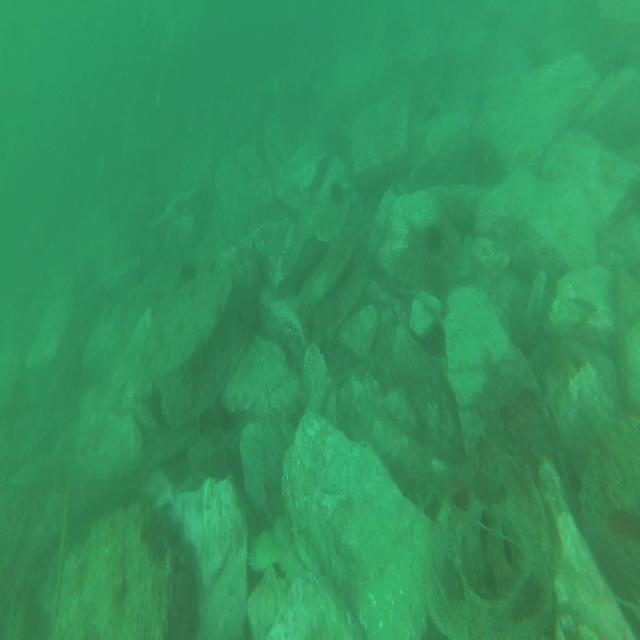echinus: (425, 220, 442, 256), (178, 258, 199, 286)
